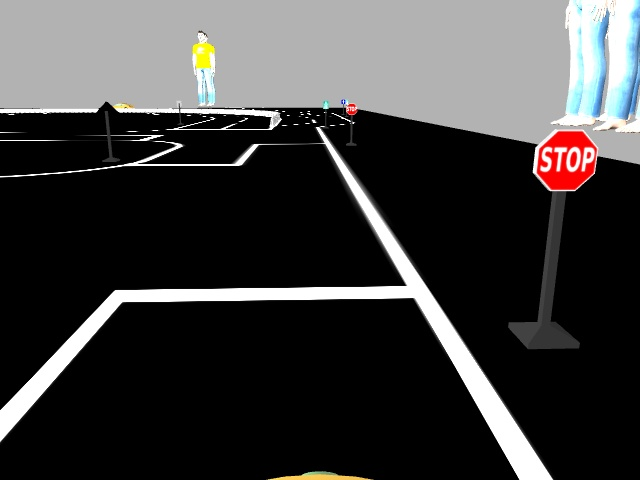Stop: (530, 127, 597, 190), (345, 103, 356, 113)
